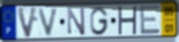E: (138, 4, 161, 36)
G: (89, 6, 110, 36)
H: (117, 6, 138, 36)
N: (66, 7, 86, 37)
V: (16, 6, 40, 40), (37, 7, 61, 38)
